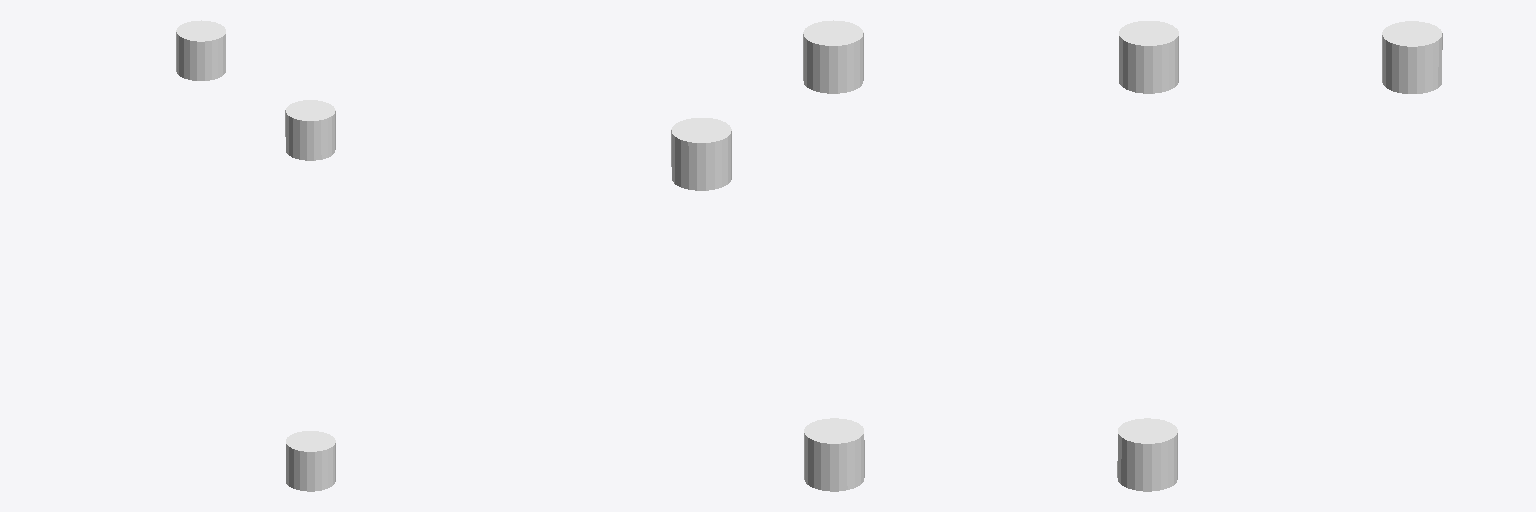
URDF robot description (dofbot):
<?xml version="1.0" encoding="UTF-8" ?>
<robot name="dofbot">
    <link name="base_link">
        <visual>
            <origin xyz="0 0 0" rpy="0 0 0" />
            <geometry>
                <mesh filename="meshes/base_link.STL" />
            </geometry>
            <material name="">
                <color rgba="0.592156862745098 0.666666666666667 0.682352941176471 1" />
            </material>
        </visual>
        <collision>
            <origin xyz="0 0 0" rpy="0 0 0" />
            <geometry>
                <mesh filename="meshes/base_link.STL" />
            </geometry>
        </collision>
    </link>
    <link name="link1">
        <visual>
            <origin xyz="0 0 0" rpy="0 0 0" />
            <geometry>
                <mesh filename="meshes/link1.STL" />
            </geometry>
            <material name="">
                <color rgba="0 0.627450980392157 0.235294117647059 1" />
            </material>
        </visual>
        <collision>
            <origin xyz="0 0 0" rpy="0 0 0" />
            <geometry>
                <mesh filename="meshes/link1.STL" />
            </geometry>
        </collision>
    </link>
    <joint name="joint1" type="revolute">
        <origin xyz="0 0 0.06605" rpy="-0.010805 0 0" />
        <parent link="base_link" />
        <child link="link1" />
        <axis xyz="0 0 1" />
        <limit effort="30" velocity="1.0" lower="-1.5708" upper="1.5708"/>
    </joint>
    <link name="link2">
        <visual>
            <origin xyz="0 0 0" rpy="0 0 0" />
            <geometry>
                <mesh filename="meshes/link2.STL" />
            </geometry>
            <material name="">
                <color rgba="0.592156862745098 0.666666666666667 0.682352941176471 1" />
            </material>
        </visual>
        <collision>
            <origin xyz="0 0 0" rpy="0 0 0" />
            <geometry>
                <mesh filename="meshes/link2.STL" />
            </geometry>
        </collision>
    </link>
    <joint name="joint2" type="revolute">
        <origin xyz="0 -0.00031873 0.04145" rpy="0 1.5708 0" />
        <parent link="link1" />
        <child link="link2" />
        <axis xyz="0 0 1" />
        <limit effort="30" velocity="1.0" lower="-1.5708" upper="1.5708"/>
    </joint>
    <link name="link3">
        <visual>
            <origin xyz="0 0 0" rpy="0 0 0" />
            <geometry>
                <mesh filename="meshes/link3.STL" />
            </geometry>
            <material name="">
                <color rgba="0 0.627450980392157 0.235294117647059 1" />
            </material>
        </visual>
        <collision>
            <origin xyz="0 0 0" rpy="0 0 0" />
            <geometry>
                <mesh filename="meshes/link3.STL" />
            </geometry>
        </collision>
    </link>
    <joint name="joint3" type="revolute">
        <origin xyz="-0.08285 0 0" rpy="0 0 0" />
        <parent link="link2" />
        <child link="link3" />
        <axis xyz="0 0 1" />
        <limit effort="30" velocity="1.0" lower="-1.5708" upper="1.5708"/>
    </joint>
    <link name="camera_base">
        <visual>
            <origin xyz="0 0 0" rpy="0 0 0" />
            <geometry>
                <mesh filename="meshes/link4.STL" />
            </geometry>
            <material name="">
                <color rgba="0.592156862745098 0.666666666666667 0.682352941176471 1" />
            </material>
        </visual>
        <collision>
            <origin xyz="0 0 0" rpy="0 0 0" />
            <geometry>
                <mesh filename="meshes/link4.STL" />
            </geometry>
        </collision>
        <inertial>
            <mass value="0.00001"/>
            <inertia ixx="0.1" ixy="0.0" ixz="0.0" iyy="0.0" iyz="0.0" izz="0.0"/>
        </inertial>
    </link>
    <joint name="joint4" type="revolute">
        <origin xyz="-0.08285 0 0" rpy="0 0 0.0083081" />
        <!-- <origin xyz="-0.1595 -0.017925 -0.01925" rpy="0 0 0.0083081" /> -->
        <parent link="link3" />
        <child link="camera_base" />
        <axis xyz="0 0 1" />
        <limit effort="30" velocity="1.0" lower="-1.5708" upper="1.5708"/>
    </joint>

    <!-- link 5 -->
    <link name="gripper">
        <visual>
            <origin xyz="0 0 0" rpy="0 0 0"/>
            <geometry>
                <mesh filename="meshes/link5.STL"/>
            </geometry>
            <material name="">
                <color rgba="1 1 1 1" />
            </material>
        </visual>
        <collision>
            <origin xyz="0 0 0" rpy="0 0 0" />
            <geometry>
                <mesh filename="meshes/link5.STL" />
            </geometry>
        </collision>
    </link>
    <!-- joint 5 -->
    <joint name="joint5" type="revolute">
        <origin xyz="-0.07385 -0.001 0" rpy="0 -1.57 0"/>
        <!-- <origin xyz="0.004 0.0125 0.02" rpy="0 -1.57 0"/> -->
        <axis xyz="0 0 1"/>
        <parent link="camera_base"/>
        <child link="gripper"/>
        <limit effort="30" velocity="1.0" lower="-1.5708" upper="3.1416"/>
    </joint>

    <!-- link 6 -->
    <link name="camera_lens">
        <visual>
            <origin xyz="0 0 0" rpy="0 0 0"/>
            <geometry>
                <mesh filename="meshes/camera_lens.STL"/>
            </geometry>
            <material name="">
                <color rgba="1 1 1 1" />
            </material>
        </visual>
        <collision>
            <origin xyz="0 0 0" rpy="0 0 0" />
            <geometry>
                <mesh filename="meshes/camera_lens.STL" />
            </geometry>
        </collision>
    </link>

    <!-- joint 6 -->
    <joint name="joint6" type="fixed">
        <origin xyz="-0.05385 -0.0645 -0.0075" rpy="0 -1.57 0"/>
        <!-- <origin xyz="0.004 -0.0625 0.003" rpy="0 0 0"/> -->
        <axis xyz="0 0 1"/>
        <parent link="camera_base"/>
        <child link="camera_lens"/>
        <limit effort="30" velocity="1.0" lower="-1.5708" upper="3.1416"/>
    </joint>

    <!-- link 7 -->
    <link name="camera_target">
        <visual>
            <origin xyz="0 0 0" rpy="0 0 0"/>
            <geometry>
                <mesh filename="meshes/camera_lens.STL"/>
            </geometry>
            <material name="">
                <color rgba="1 1 1 1" />
            </material>
        </visual>
        <!-- <collision>
            <origin xyz="0 0 0" rpy="0 0 0" />
            <geometry>
                <mesh filename="meshes/camera_lens.STL" />
            </geometry>
        </collision> -->
    </link>

    <!-- joint 7 -->
    <joint name="joint7" type="fixed">
        <!-- <origin xyz="-0.07385 -0.001 0" rpy="0 -1.57 0"/> -->
        <origin xyz="0 0 0.1" rpy="0 0 0"/>
        <axis xyz="0 0 1"/>
        <parent link="camera_lens"/>
        <child link="camera_target"/>
        <limit effort="30" velocity="1.0" lower="-1.5708" upper="3.1416"/>
    </joint>

    <!-- link 8 -->
    <link name="grasp_target">
        <visual>
            <origin xyz="0 0 0" rpy="0 0 0"/>
            <geometry>
                <mesh filename="meshes/camera_lens.STL"/>
            </geometry>
            <material name="">
                <color rgba="1 1 1 1" />
            </material>
        </visual>
        <!-- <collision>
            <origin xyz="0 0 0" rpy="0 0 0" />
            <geometry>
                <mesh filename="meshes/camera_lens.STL" />
            </geometry>
        </collision> -->
    </link>

    <!-- joint 8 -->
    <joint name="joint8" type="fixed">
        <!-- <origin xyz="-0.07385 -0.001 0" rpy="0 -1.57 0"/> -->
        <origin xyz="0 0.06 0.1" rpy="0 0 0"/>
        <axis xyz="0 0 1"/>
        <parent link="camera_lens"/>
        <child link="grasp_target"/>
        <limit effort="30" velocity="1.0" lower="-1.5708" upper="3.1416"/>
    </joint>
</robot>

--- Facts derived from the render (not from the file) ---
The picture shows the robot from 3 angles, left to right: view 1: azimuth 30°, elevation 25°; view 2: azimuth 150°, elevation 25°; view 3: azimuth 270°, elevation 25°; orthographic projection.
Model dofbot with 9 links and 8 joints (5 revolute, 3 fixed), rooted at base_link, posed every joint at zero.
Links seen in each view (by area): view 1: camera_target, camera_lens, grasp_target; view 2: camera_target, camera_lens, grasp_target; view 3: camera_lens, grasp_target, camera_target.
Boxes of the visible links, bbox=[...] form: camera_target: bbox=[285, 100, 335, 160]; camera_lens: bbox=[286, 431, 335, 491]; grasp_target: bbox=[176, 20, 225, 80]; camera_target: bbox=[803, 20, 863, 93]; camera_lens: bbox=[804, 418, 864, 491]; grasp_target: bbox=[671, 118, 731, 190]; camera_lens: bbox=[1117, 418, 1177, 491]; grasp_target: bbox=[1382, 21, 1442, 93]; camera_target: bbox=[1119, 21, 1178, 93].
Size in the robot's own frame: 0.0138 by 0.074 by 0.112 metres.
3 mesh visuals loaded from 7 distinct referenced files (1 binary STL); not drawn: 6 (reference not matched to a file when rendering).